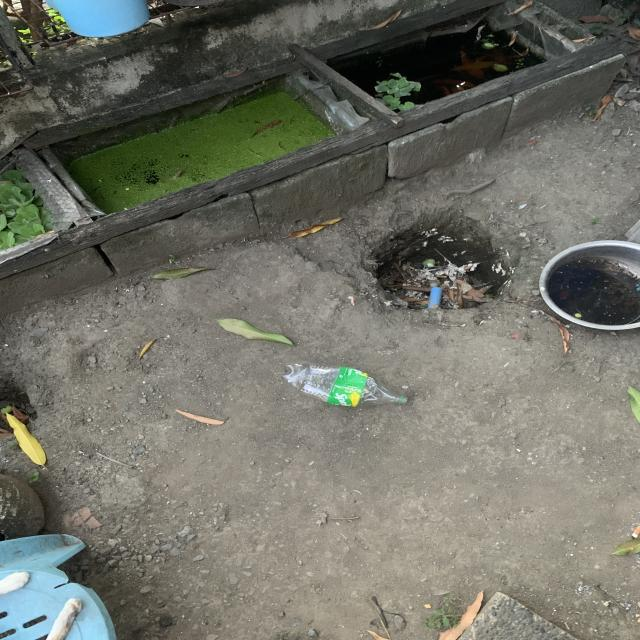Bottle: (280, 361, 407, 409)
